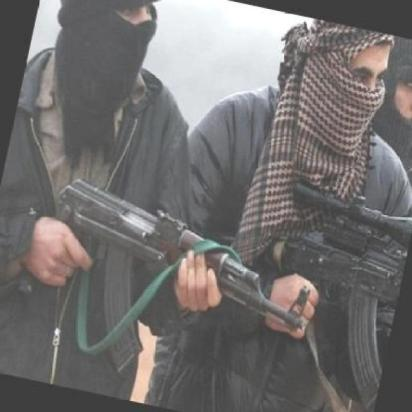Gun: (26, 162, 322, 395)
